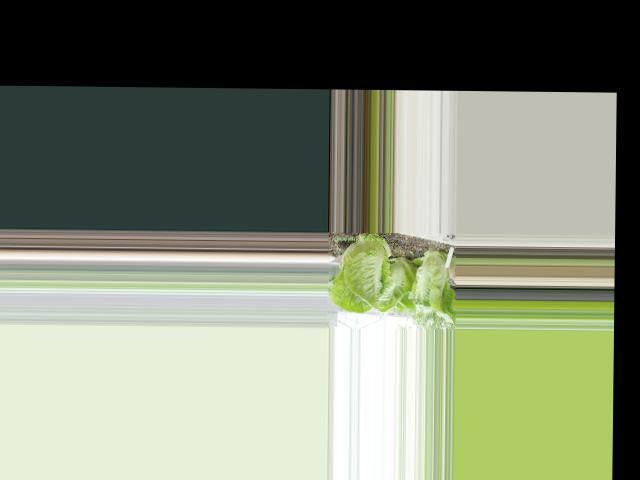lettuce: (407, 240, 451, 321)
